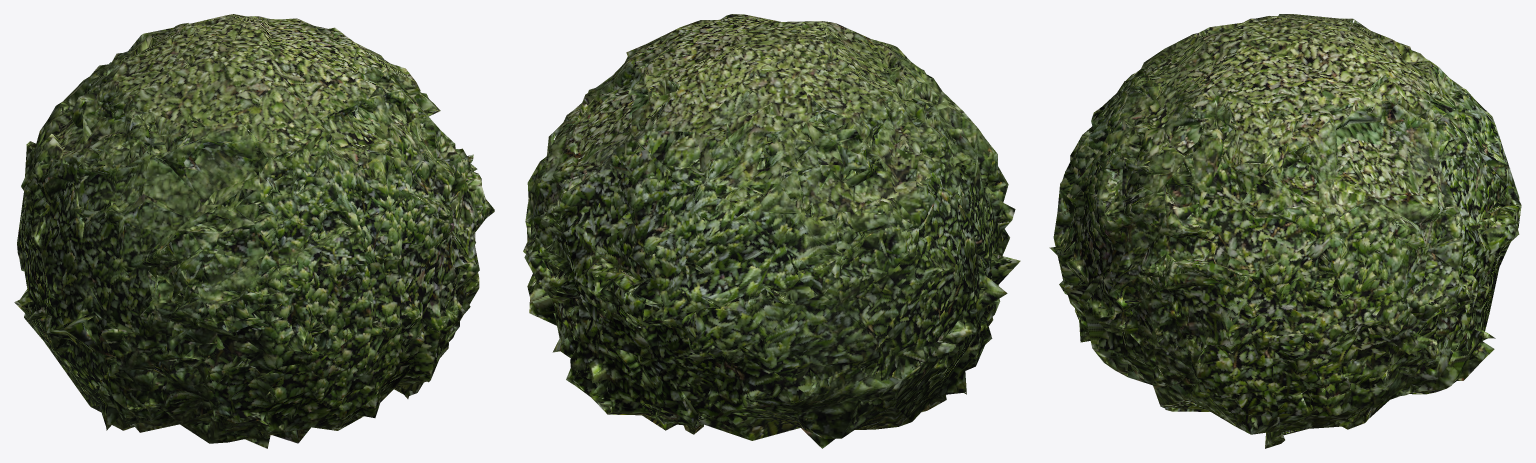
The model's file is shrub.glb.
3 views of the same model, side by side, from view 1: azimuth 30°, elevation 25°; view 2: azimuth 150°, elevation 25°; view 3: azimuth 270°, elevation 25° (orthographic). The views are drawn at different scales.
Parts seen in each view (by area): view 1: texture_mapping; view 2: texture_mapping; view 3: texture_mapping.
Boxes of the visible parts, x1,y1,x2,y2 form: texture_mapping: (14,14,494,448); texture_mapping: (523,14,1020,448); texture_mapping: (1049,14,1521,448).
Size of the model in its own units: 0.9539 by 0.7954 by 0.9735.
Materials: 1 (1 with a texture image).
